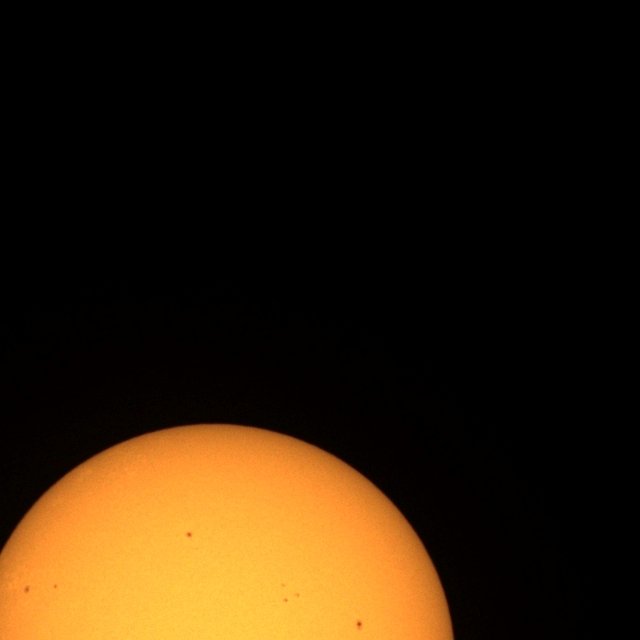sunspot: (280, 587, 301, 602), (355, 619, 364, 629), (23, 584, 31, 594), (186, 531, 194, 539), (294, 592, 300, 599), (283, 597, 289, 603), (53, 584, 58, 590)
